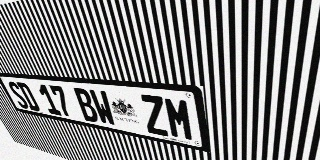1: (35, 84, 62, 116)
7: (48, 85, 75, 118)
B: (72, 87, 100, 123)
D: (16, 82, 41, 112)
M: (163, 96, 195, 142)
S: (6, 81, 31, 110)
W: (88, 89, 117, 127)
Z: (138, 94, 170, 137)
